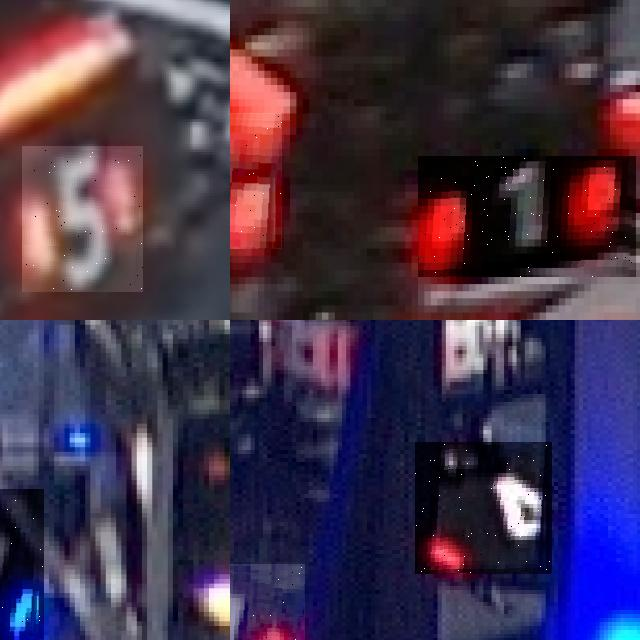B1: (0, 489, 44, 640)
R1: (418, 156, 636, 277), (230, 113, 283, 248)
R4: (415, 442, 552, 574)
R5: (22, 146, 143, 292)
